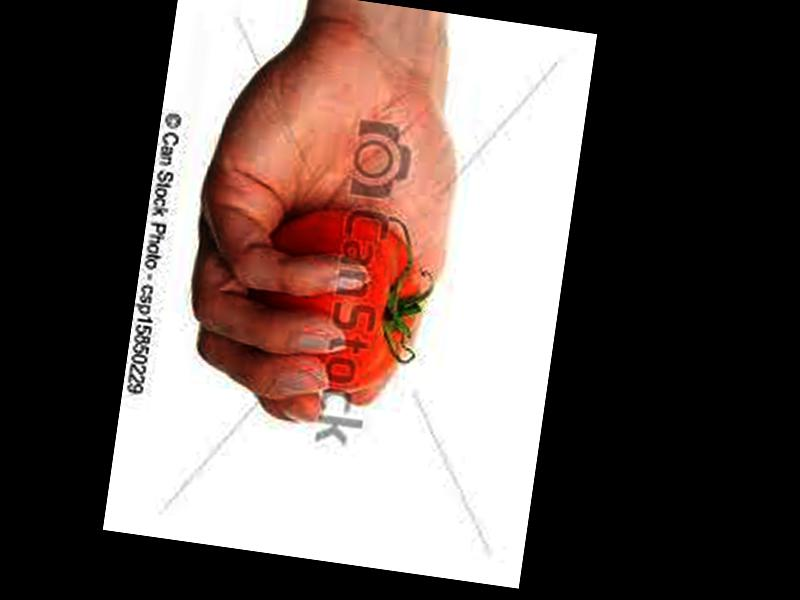Tomato: (242, 203, 428, 401)
